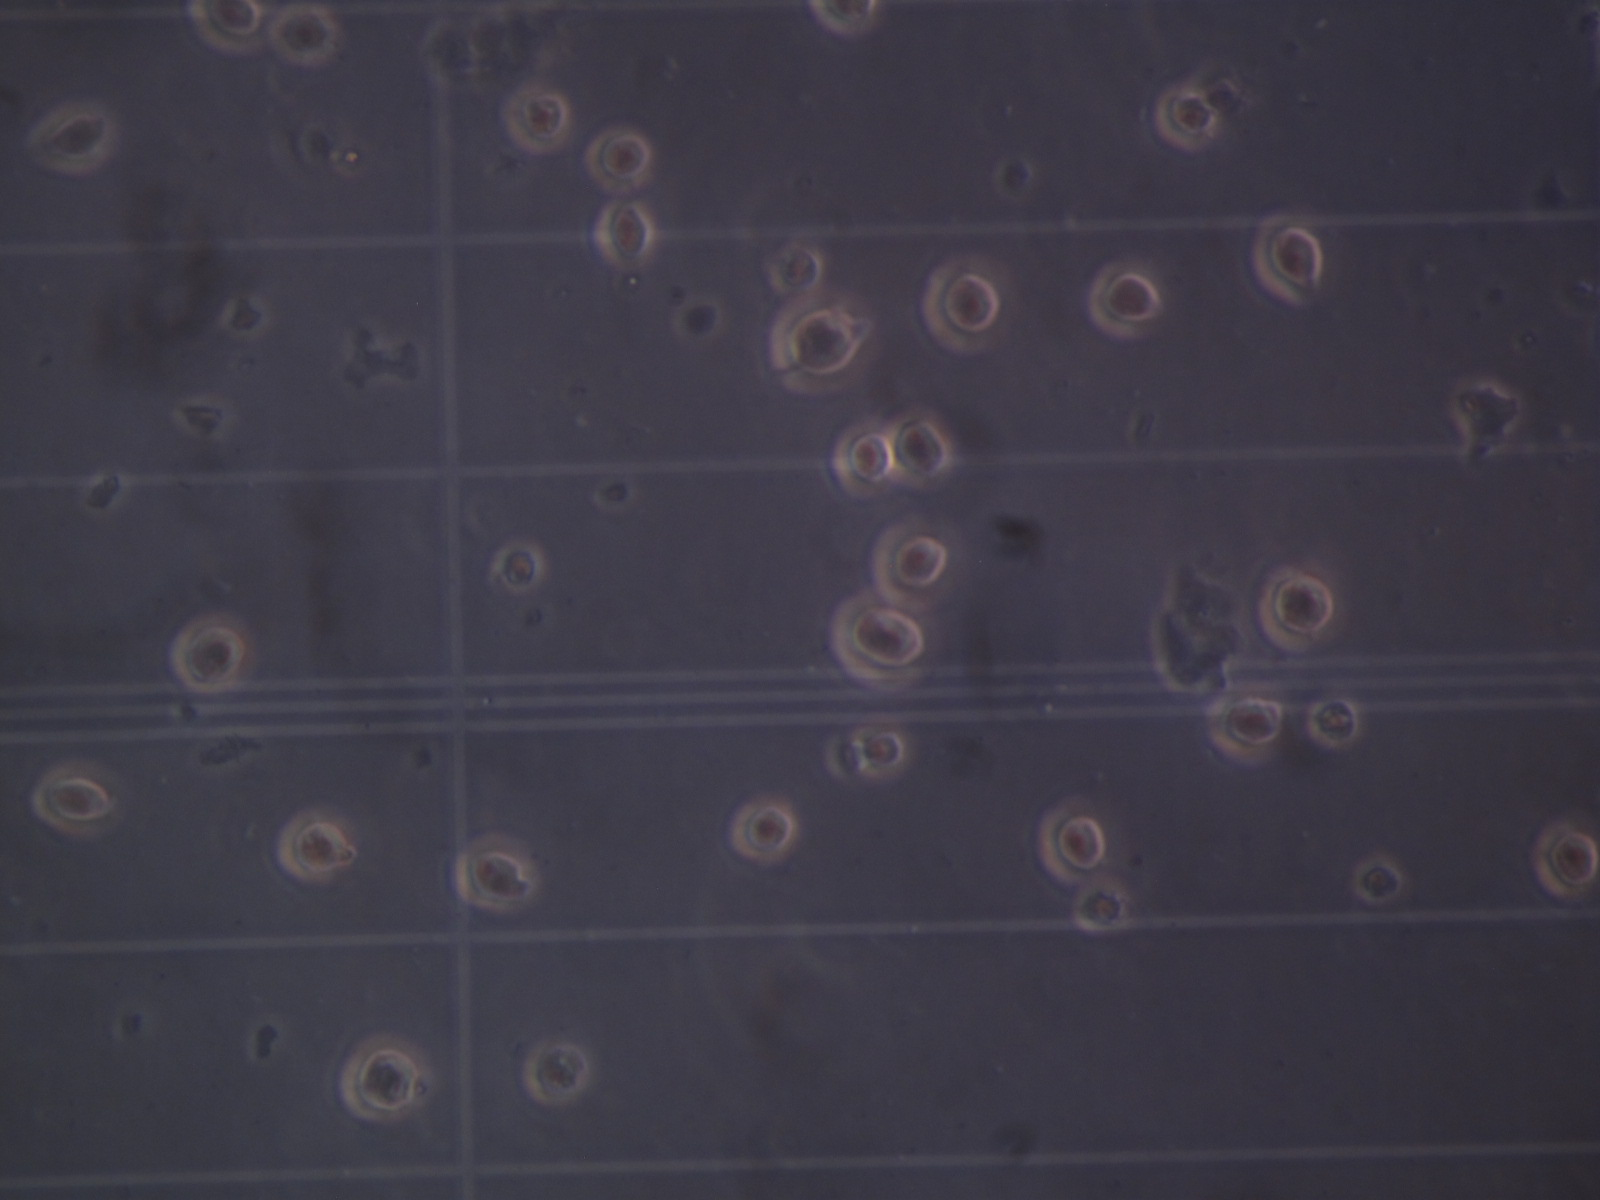hemo: (765, 290, 883, 395), (829, 592, 927, 695), (338, 1034, 426, 1124), (922, 260, 1007, 354), (871, 513, 949, 611), (449, 831, 540, 910), (23, 98, 116, 175), (1259, 565, 1333, 654), (171, 613, 253, 692), (1255, 214, 1324, 308), (1039, 792, 1106, 885), (1528, 817, 1600, 903), (1087, 260, 1162, 340), (33, 764, 115, 834), (884, 405, 952, 489), (276, 811, 348, 886), (1208, 696, 1286, 765), (592, 197, 660, 272), (831, 424, 896, 503), (728, 795, 799, 863), (581, 129, 653, 195), (501, 84, 567, 154), (270, 3, 341, 66), (186, 1, 265, 55), (1157, 84, 1218, 153), (525, 1037, 590, 1102), (1073, 884, 1128, 937), (1306, 696, 1361, 747), (859, 724, 910, 778), (767, 243, 823, 292), (495, 538, 543, 591), (808, 1, 876, 38), (1352, 855, 1403, 903), (824, 731, 866, 778)
